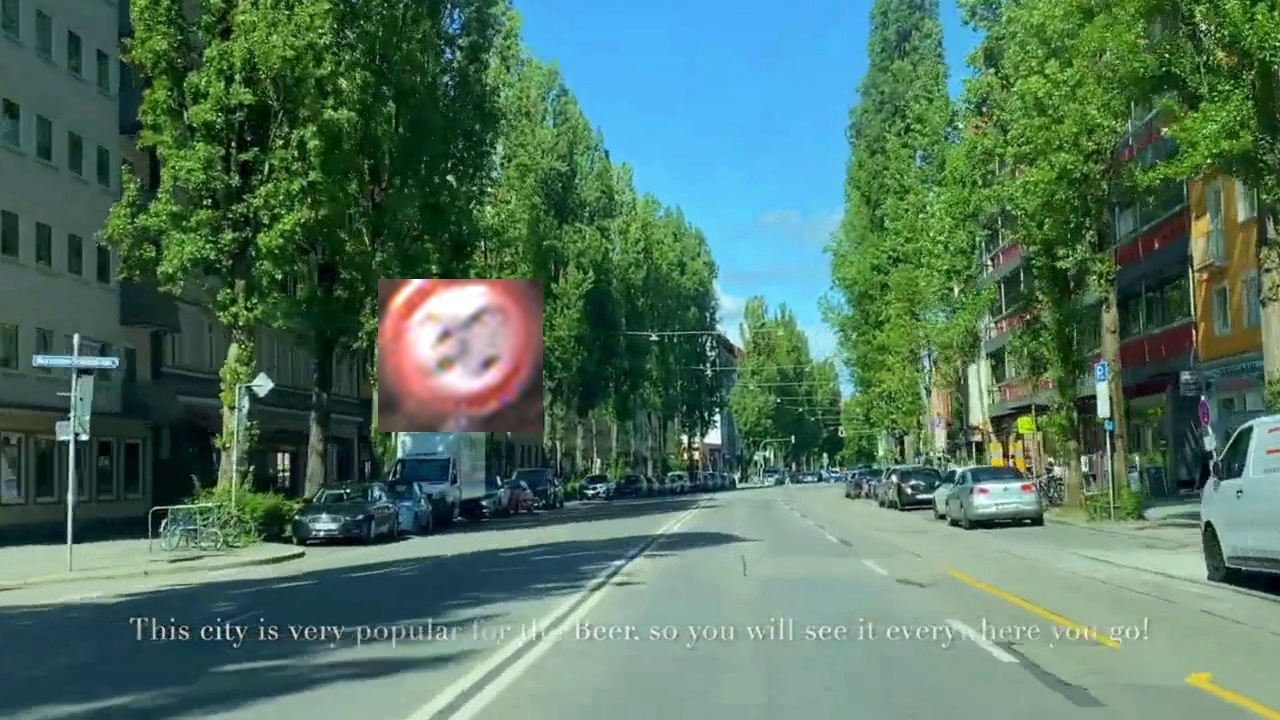Speed 30: (378, 279, 543, 432)
